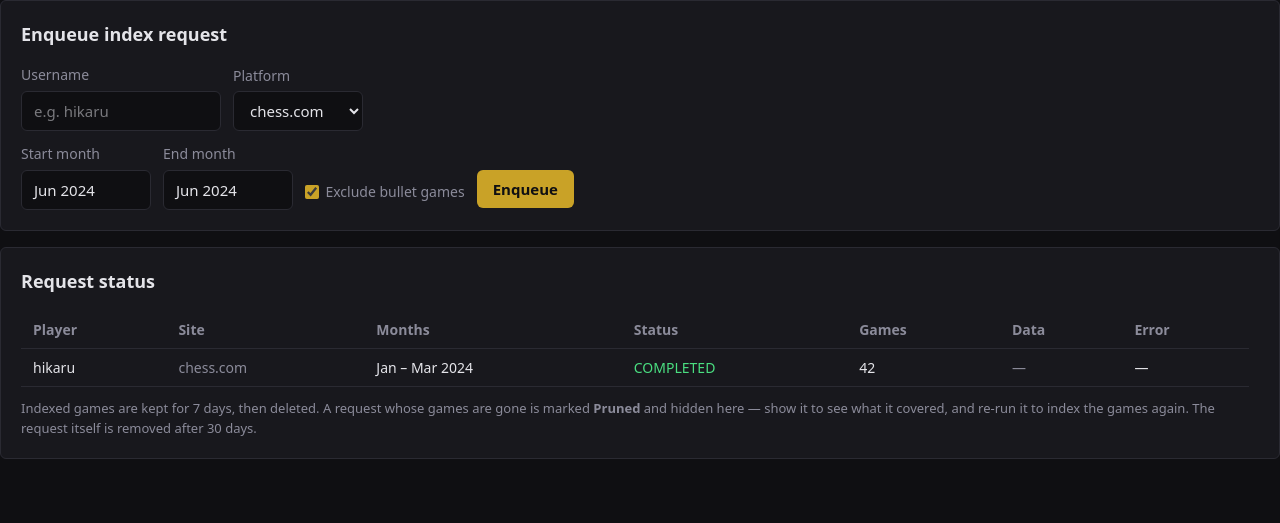
Test: IndexView › shows success message after successful submission
Type "hikaru" into the field labelled "Username". click: (121,111)
box: left=21, top=91, right=221, bottom=131
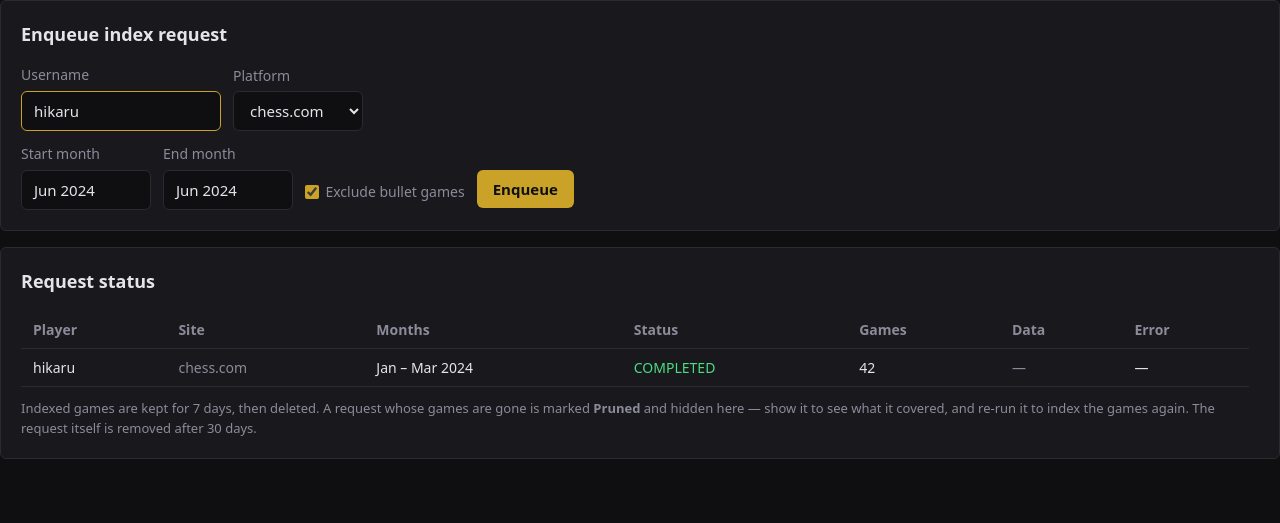
Submit the form labelled "Platform", box left=21, top=65, right=574, bottom=210
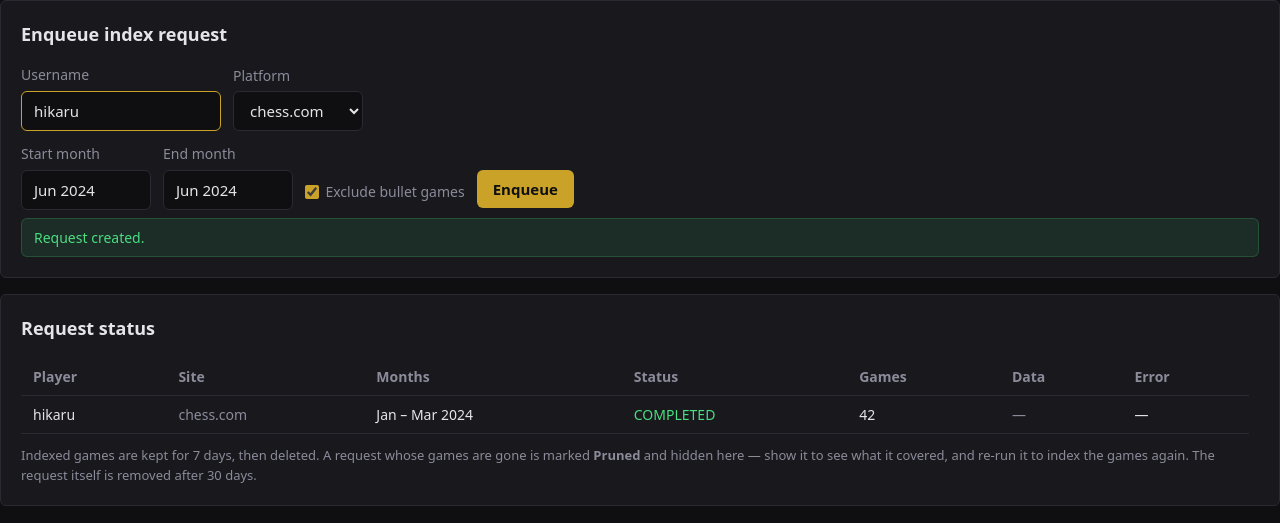
Check: the text "Request created." is shown, box left=21, top=218, right=1259, bottom=257
